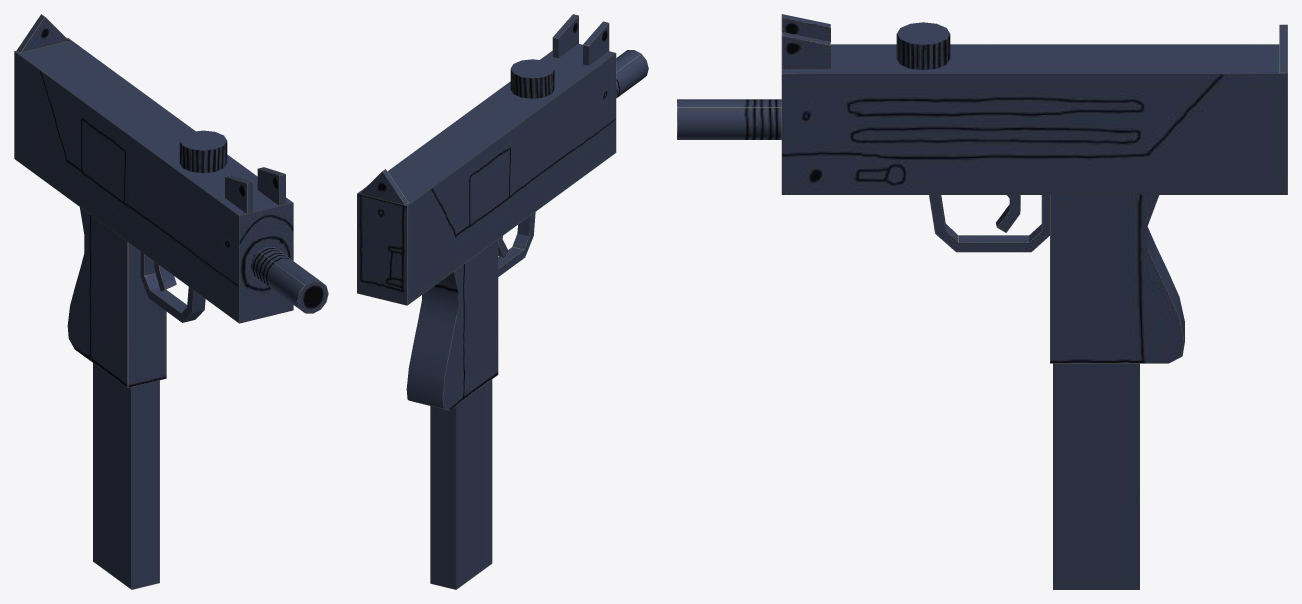
Rendered from Cobray_M11.glb.
The picture shows the model from 3 angles, left to right: view 1: azimuth 30°, elevation 25°; view 2: azimuth 150°, elevation 25°; view 3: azimuth 270°, elevation 25°; orthographic projection. The views are drawn at different scales.
Visible parts, largest first — view 1: Cobray M11; view 2: Cobray M11; view 3: Cobray M11.
Boxes of the visible parts, left/top/right/bottom form: Cobray M11: left=14, top=14, right=328, bottom=589; Cobray M11: left=357, top=14, right=648, bottom=589; Cobray M11: left=677, top=14, right=1287, bottom=589.
Bounding box in the file's own units: 0.05 × 0.4376 × 0.4345.
1 material, 1 textured.
